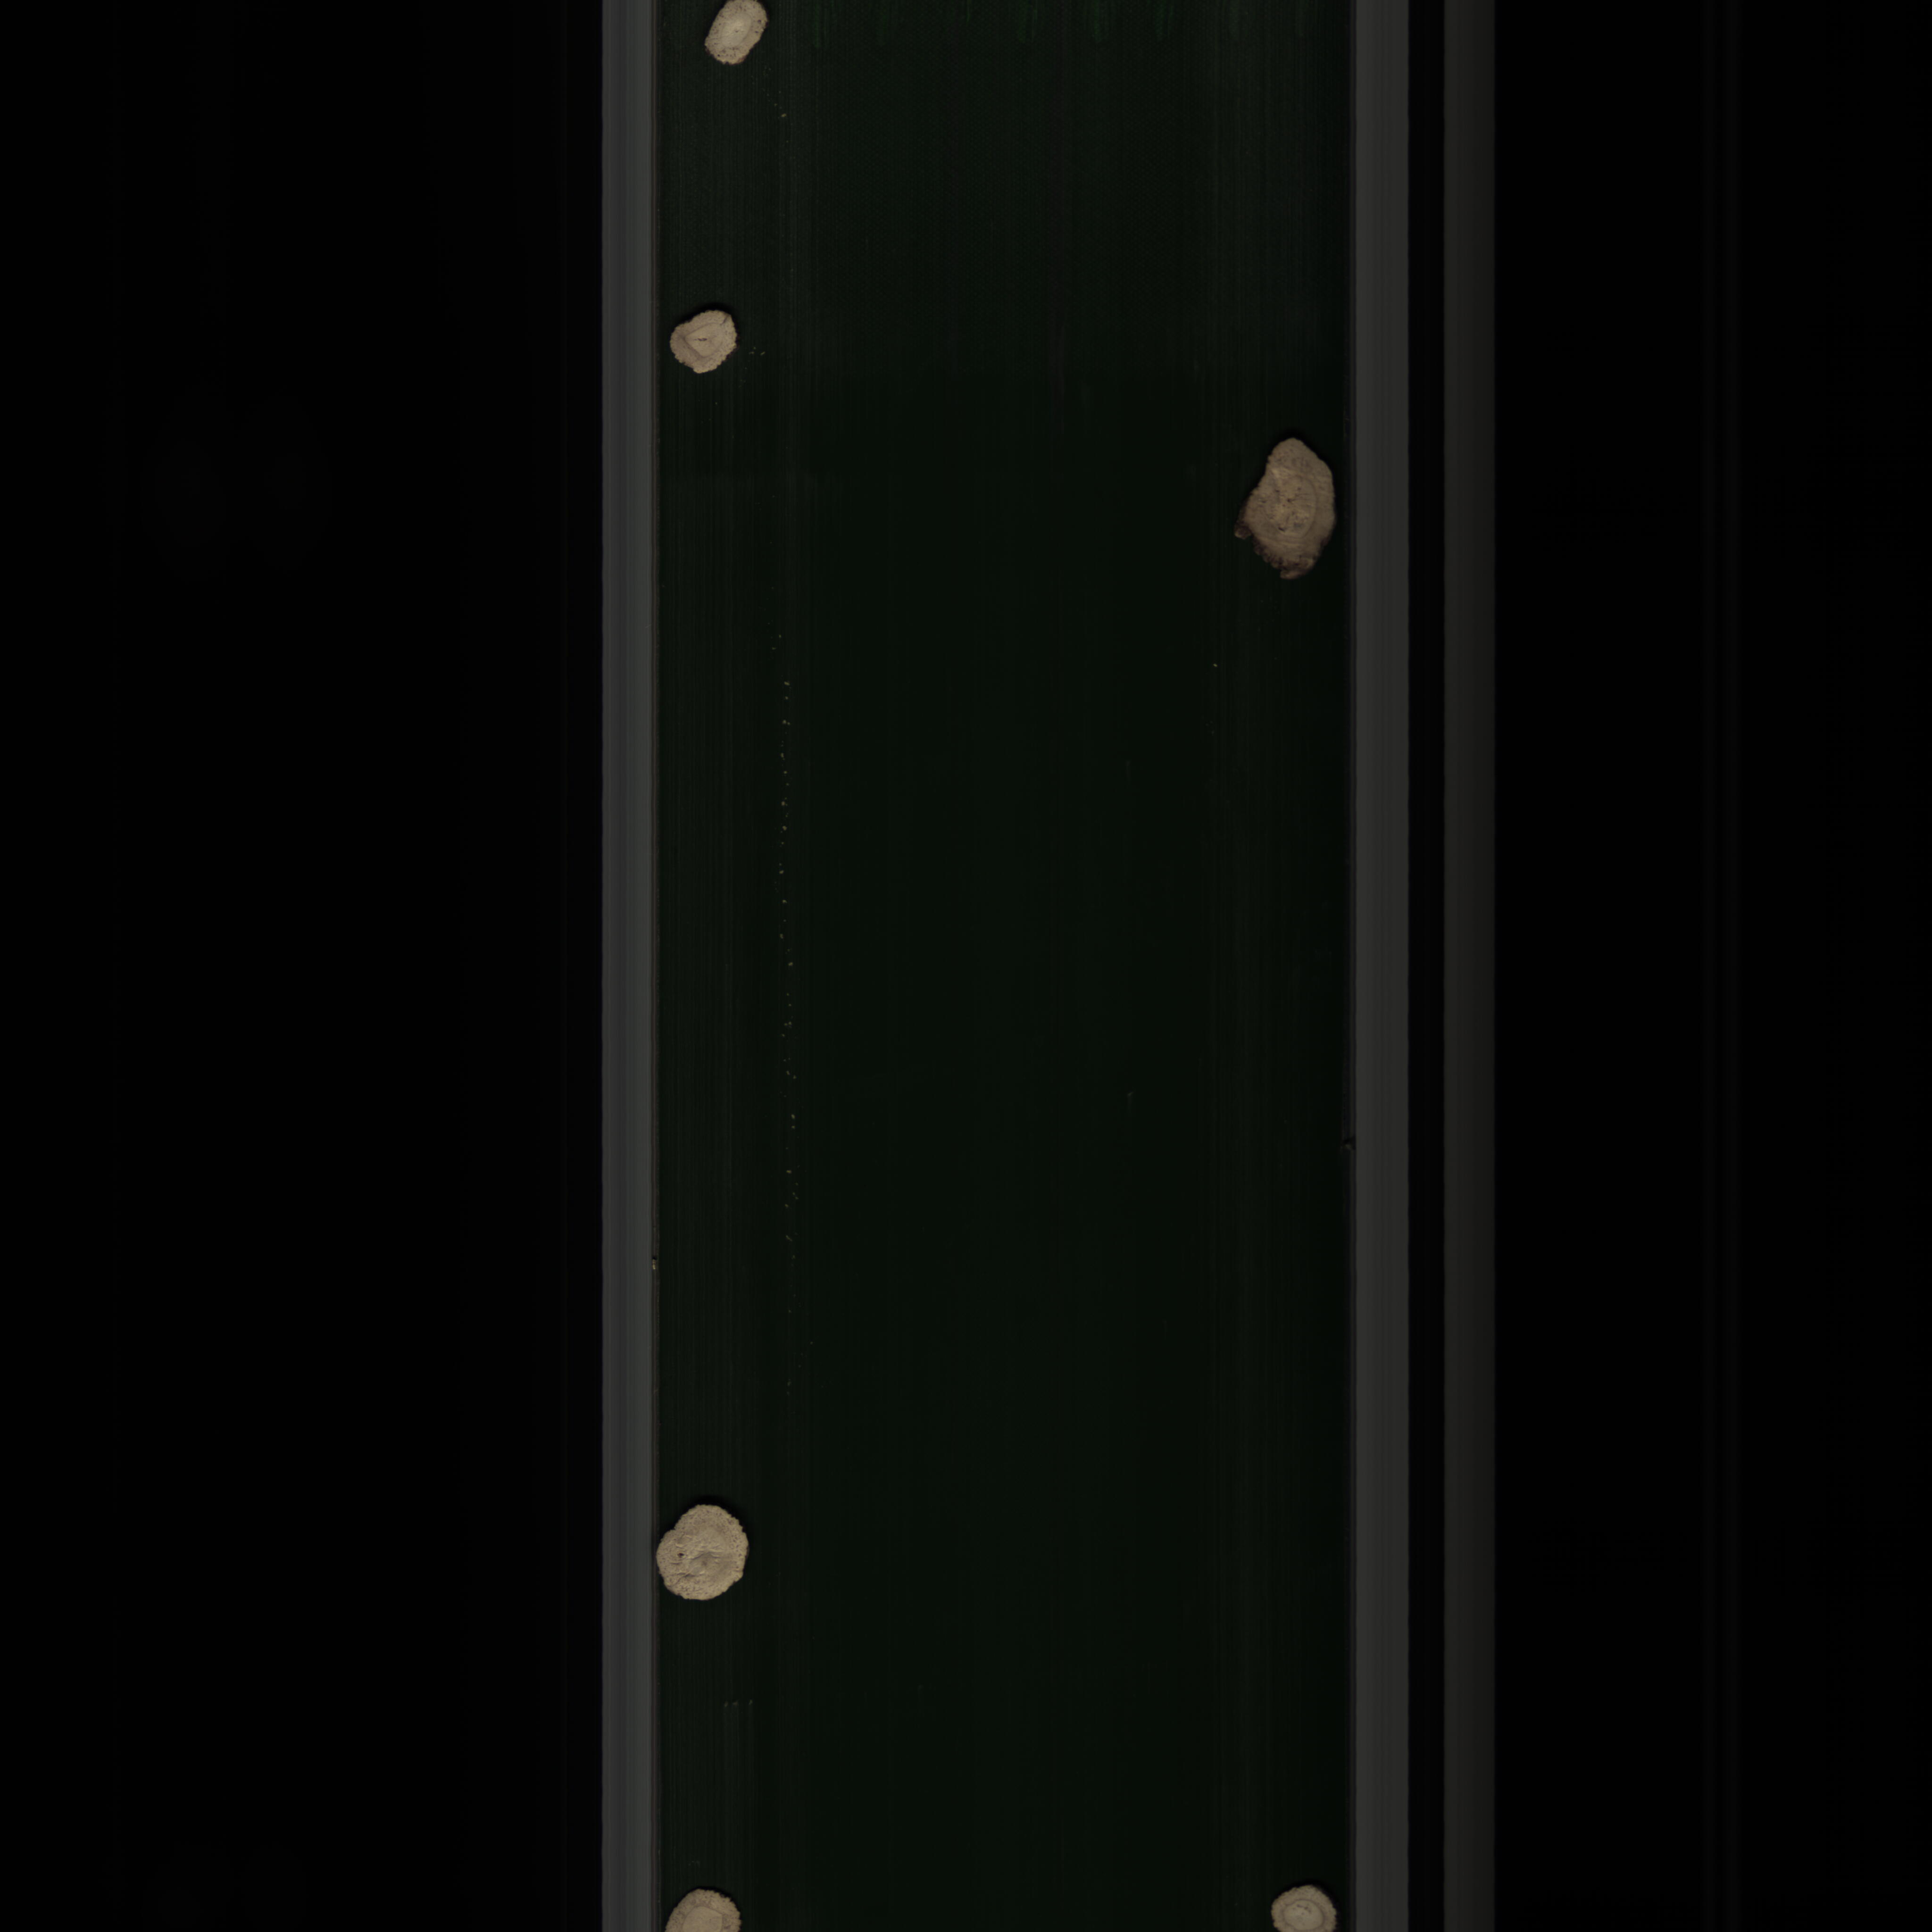moldy: (1219, 428, 1343, 603)
